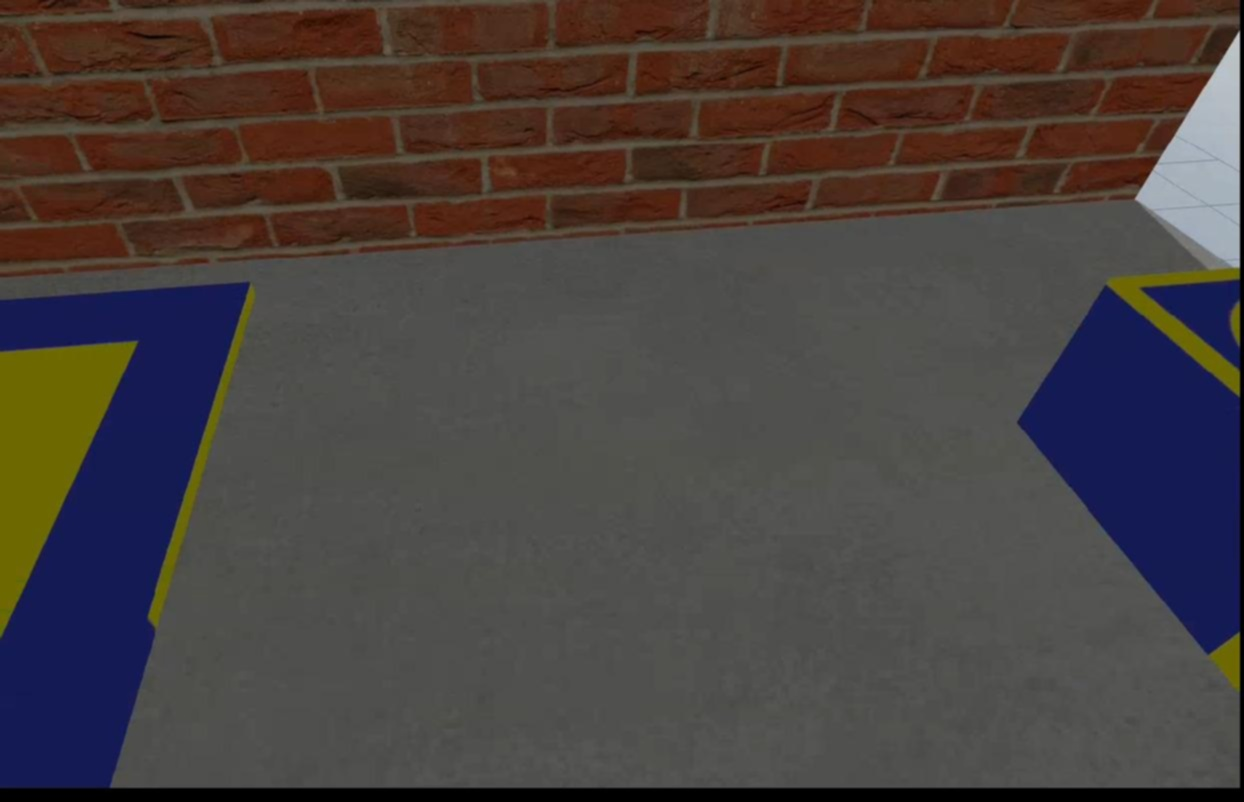large_base: (0, 281, 254, 783)
small_base: (1100, 270, 1244, 411)
